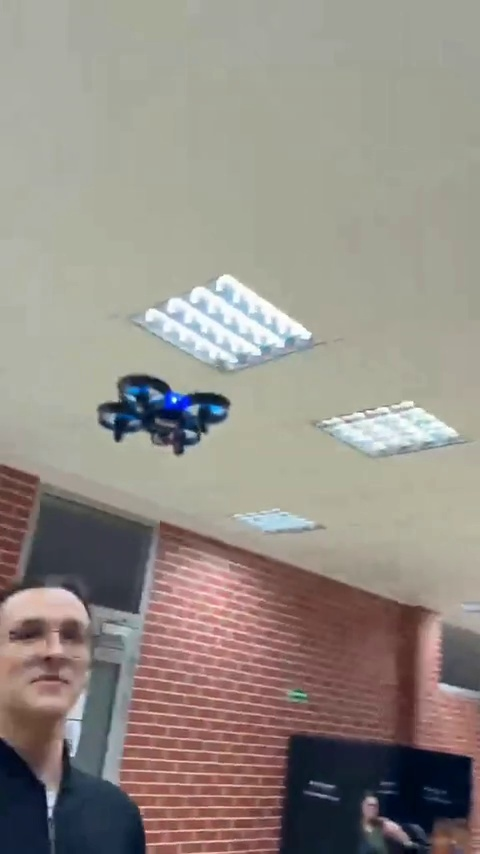drone: (97, 373, 226, 448)
no vest: (0, 581, 146, 847)
